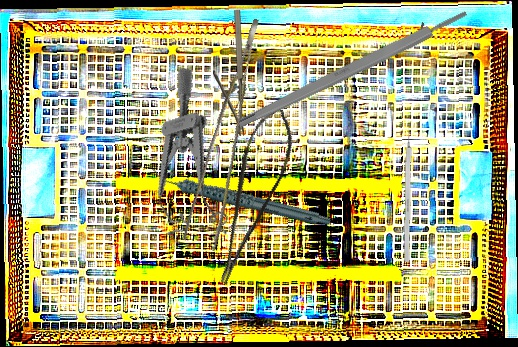Handpiece: (149, 134, 333, 261)
Hook Surgical: (403, 119, 413, 263)
Micro Scissor: (188, 102, 309, 287)
Needle Holder: (213, 10, 244, 136)
Scalpel Handle: (252, 7, 470, 123)
Spatula Surgical: (233, 20, 430, 128)
Speculum: (119, 65, 244, 253)
Tissue Forceps: (170, 18, 298, 252)
